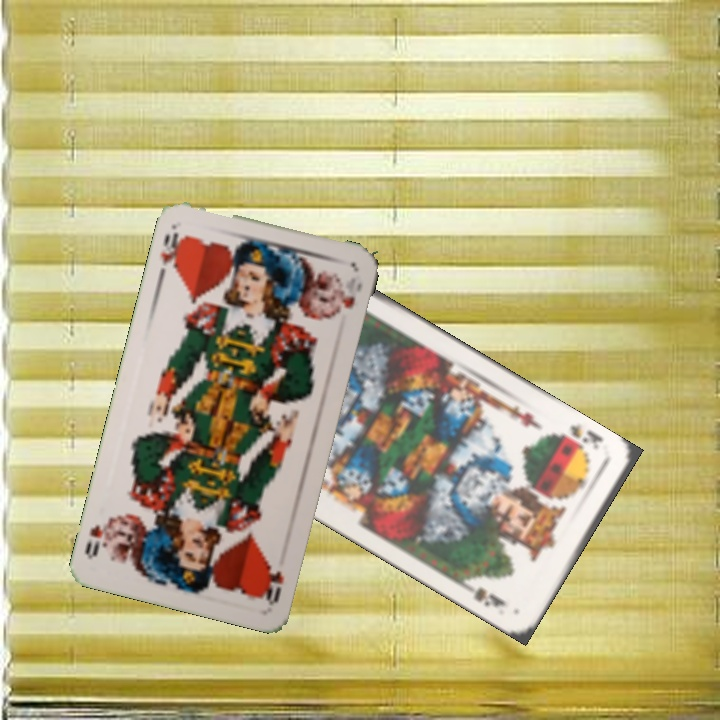HO: (156, 228, 188, 275), (259, 561, 287, 608)
SK: (565, 419, 606, 453)
